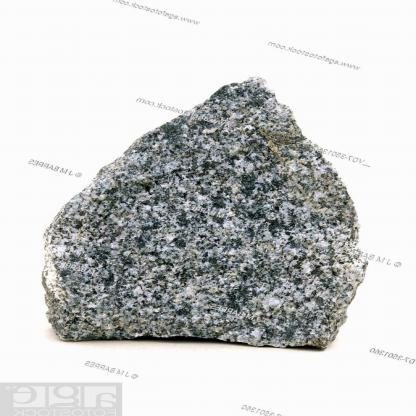Igneous_Diorite: (58, 132, 340, 330)
